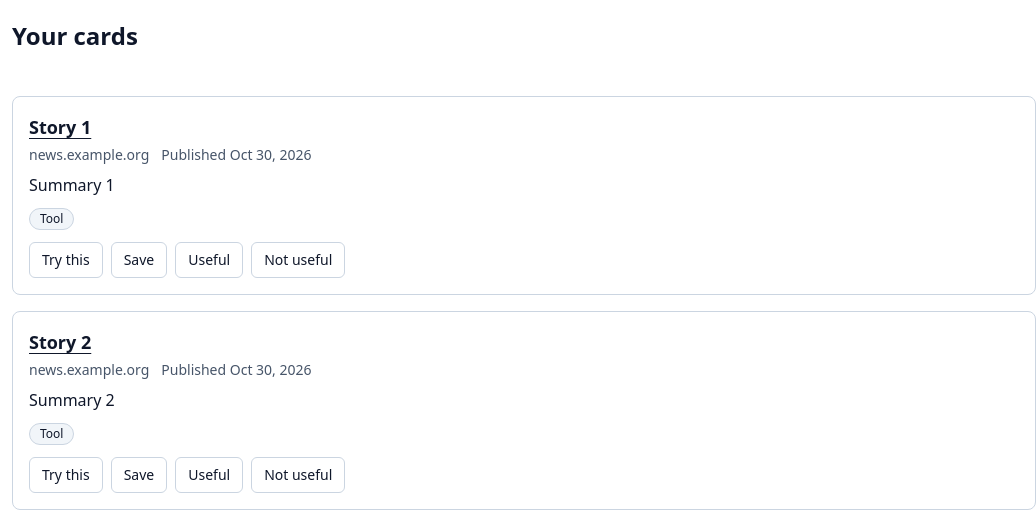
it: what the buttons do › hides a card that is not useful, announces it, moves focus to the list, and undoes it in place
The image size is (1036, 527).
Step 1. Click the button "Not useful" below "Summary 1" → (298, 260), box top-left (251, 242), bottom-right (345, 278)
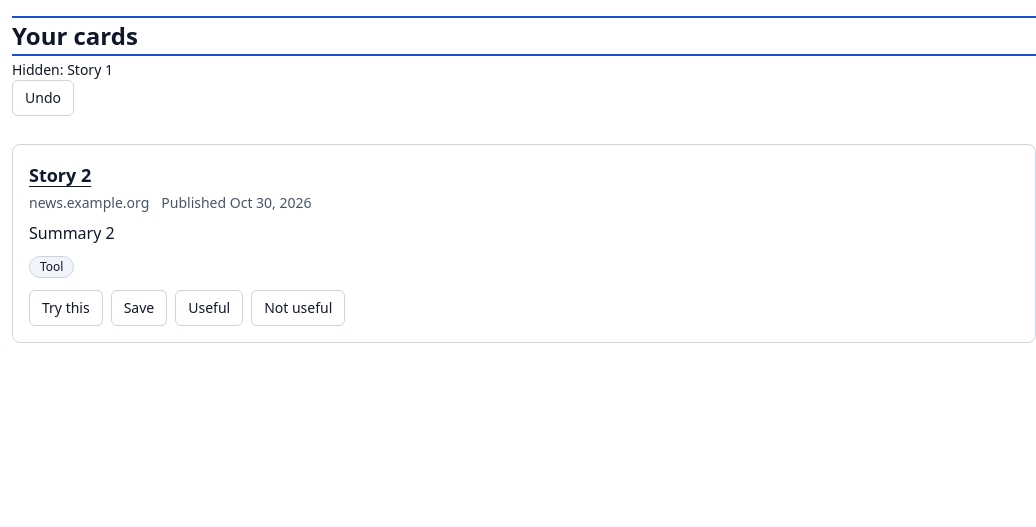
Expected: the text "Hidden: Story 1" is shown, top-left (12, 60), bottom-right (113, 79)
Step 2. Click the button "Undo" → (43, 98), box top-left (12, 80), bottom-right (74, 116)
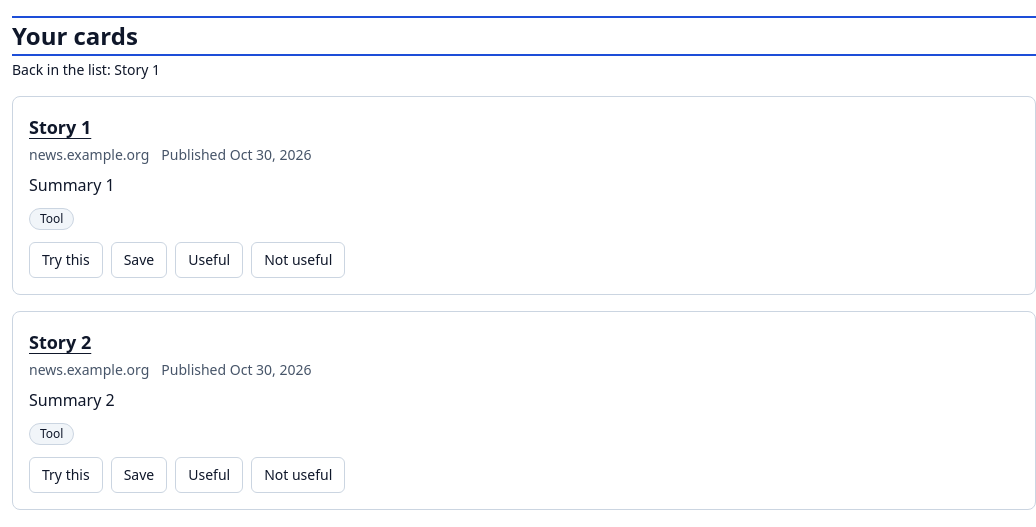
Expected: the button "Undo" is gone
